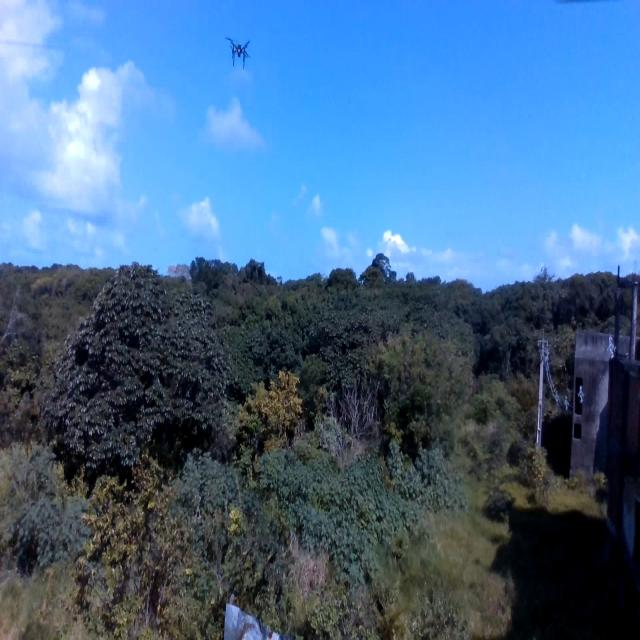-uav-: (221, 30, 258, 78)
